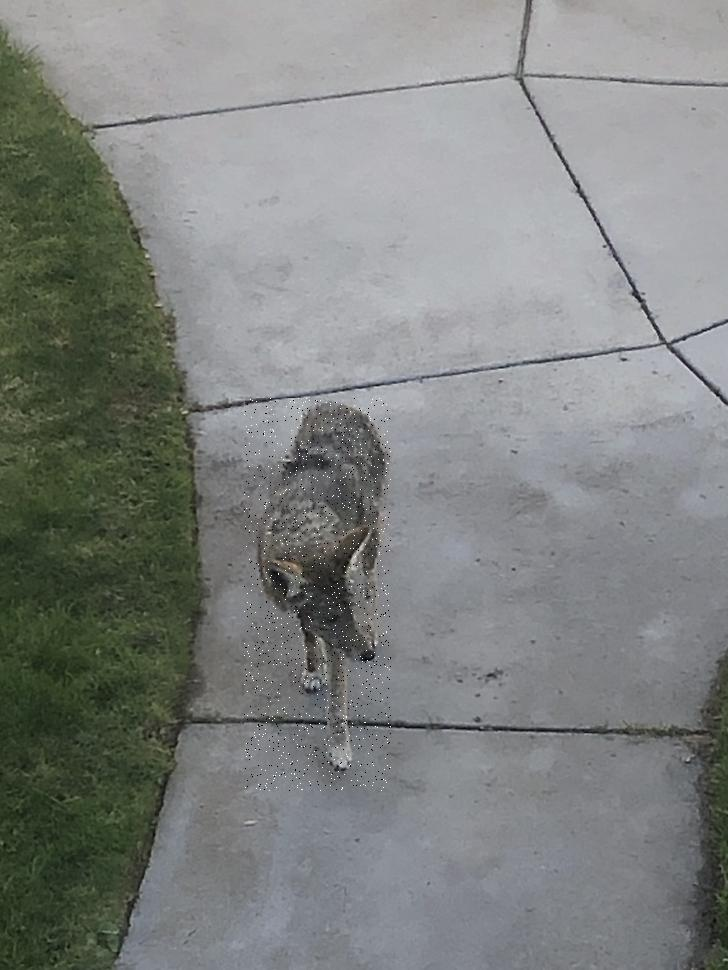Coyote: (245, 399, 392, 792)
